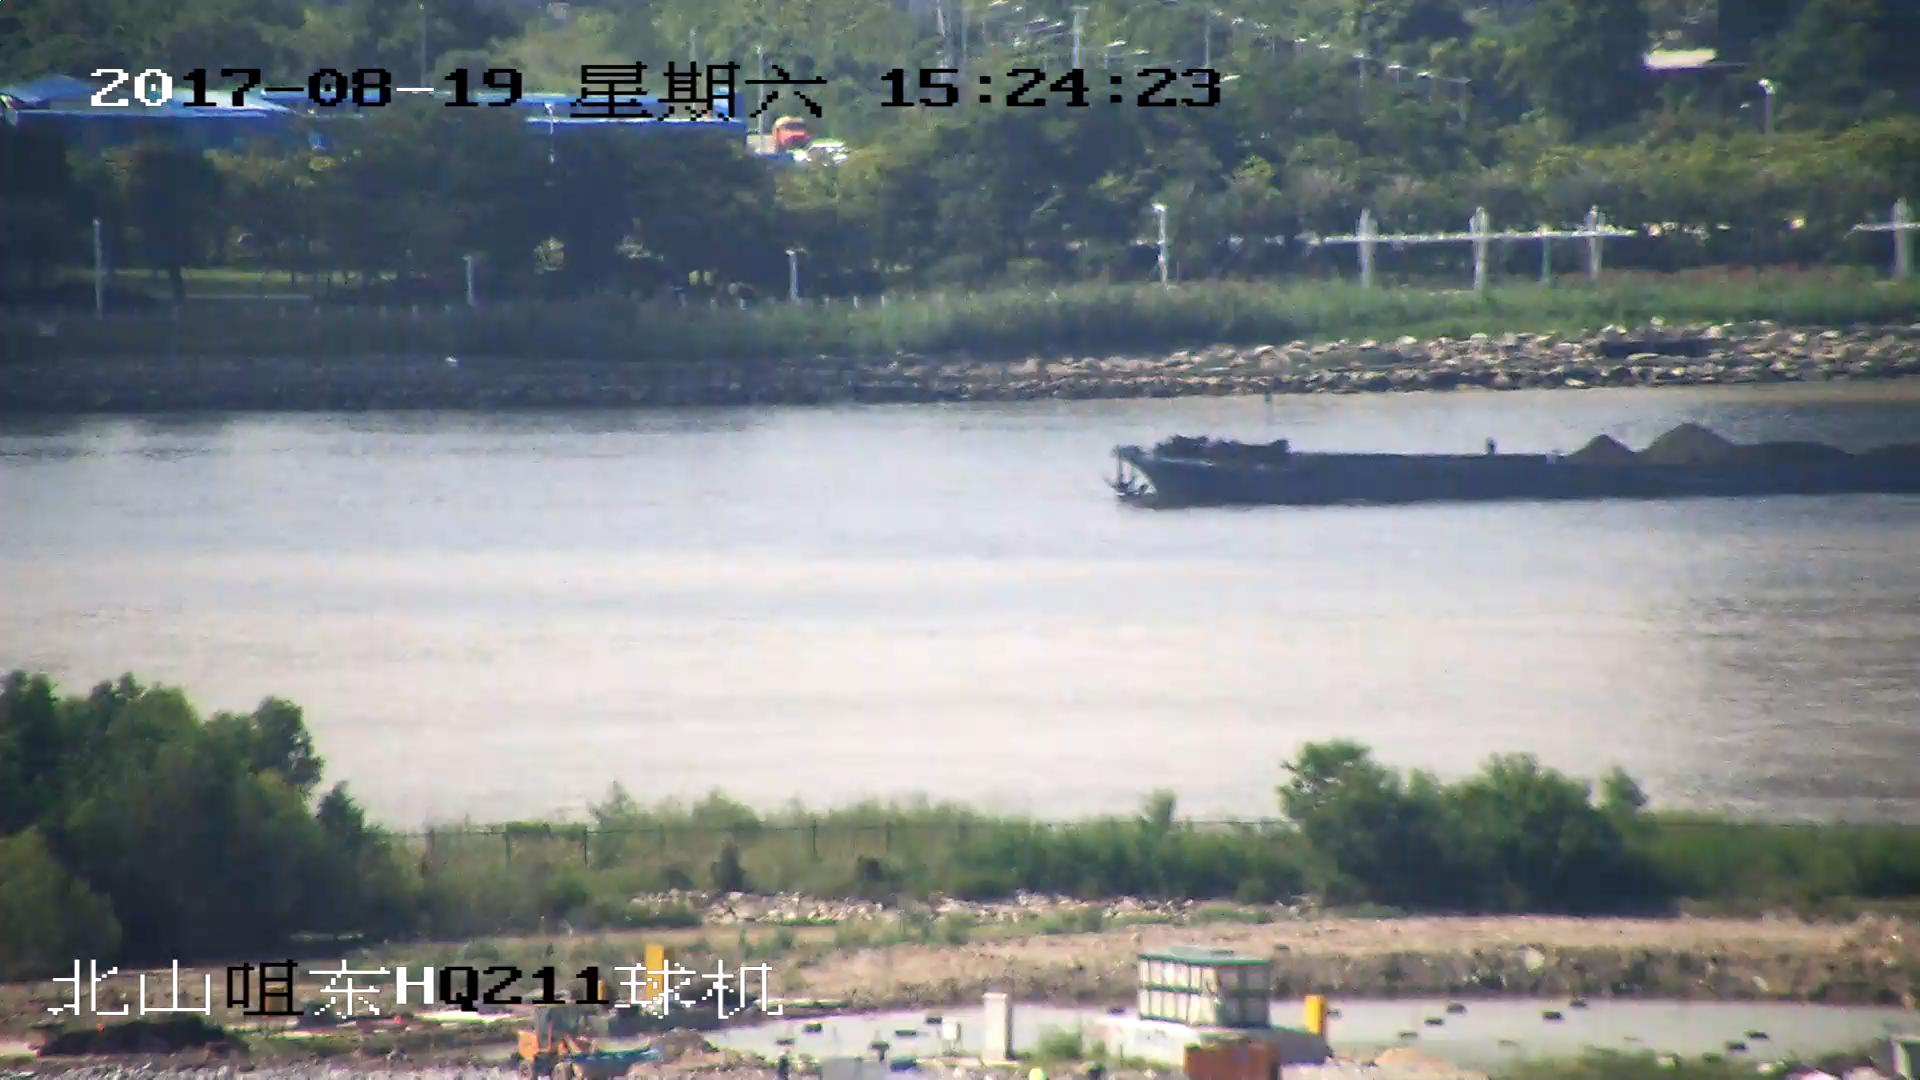ore carrier: (1104, 410, 1920, 512)
